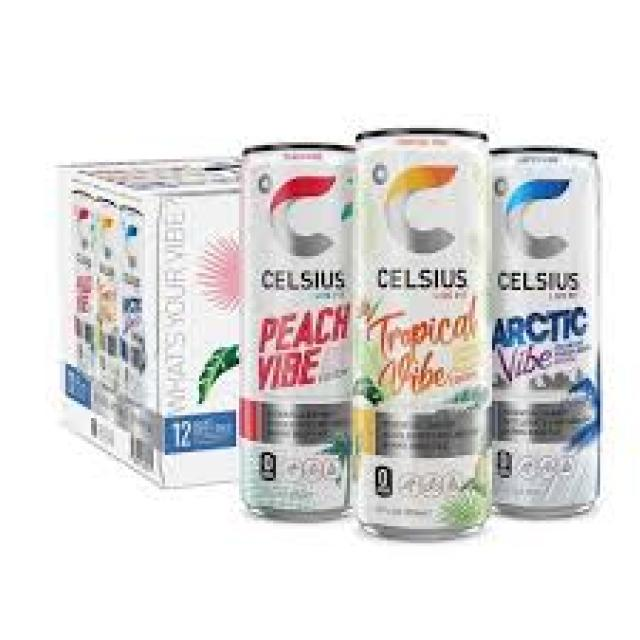Cans: (347, 120, 501, 544), (230, 136, 356, 524), (486, 142, 606, 518)
